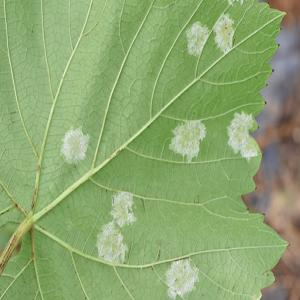Folha: (0, 0, 289, 299)
Fungo: (95, 190, 136, 264), (185, 12, 234, 57), (168, 118, 207, 162), (226, 110, 259, 160), (164, 258, 200, 298), (96, 220, 128, 264), (60, 126, 90, 165), (110, 190, 136, 228), (186, 20, 210, 57), (213, 12, 234, 54), (0, 219, 22, 258), (10, 239, 22, 257)
